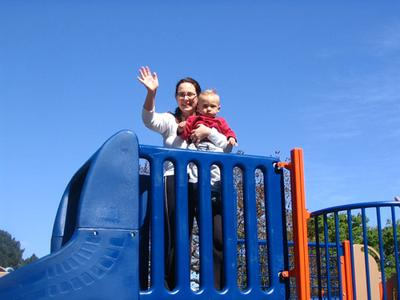person: (136, 66, 235, 293)
